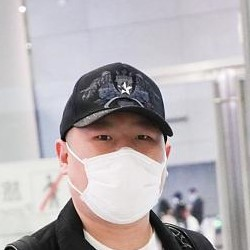mask: (54, 134, 171, 226)
